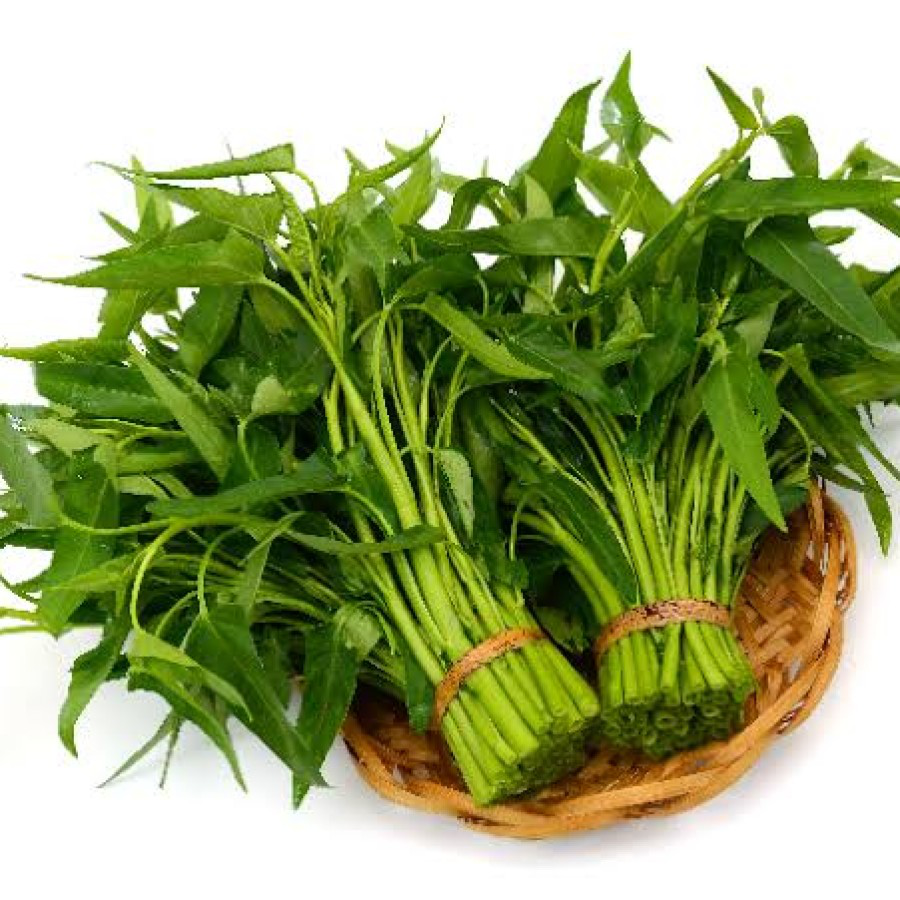Kangkung: (91, 109, 836, 753)
